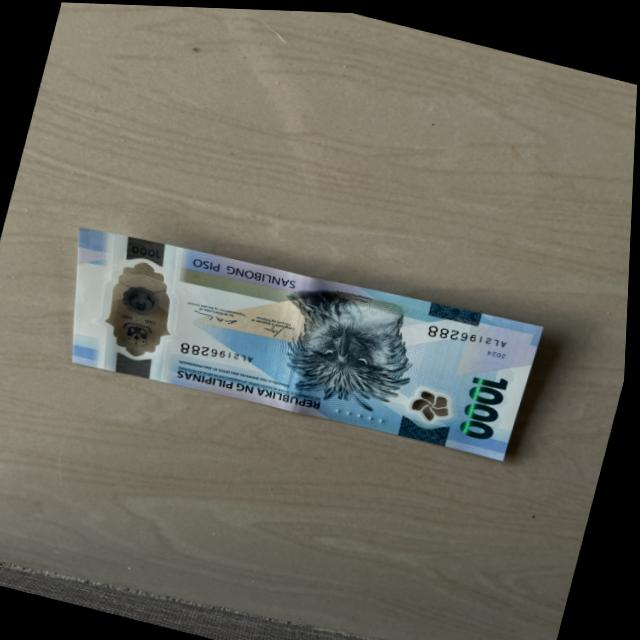clear_window: (92, 250, 195, 370)
eagle: (279, 274, 428, 412)
sampaguita: (412, 382, 459, 424)
